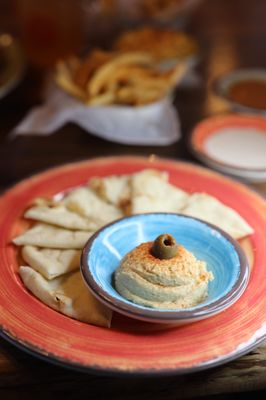sushi: (79, 208, 255, 325)
